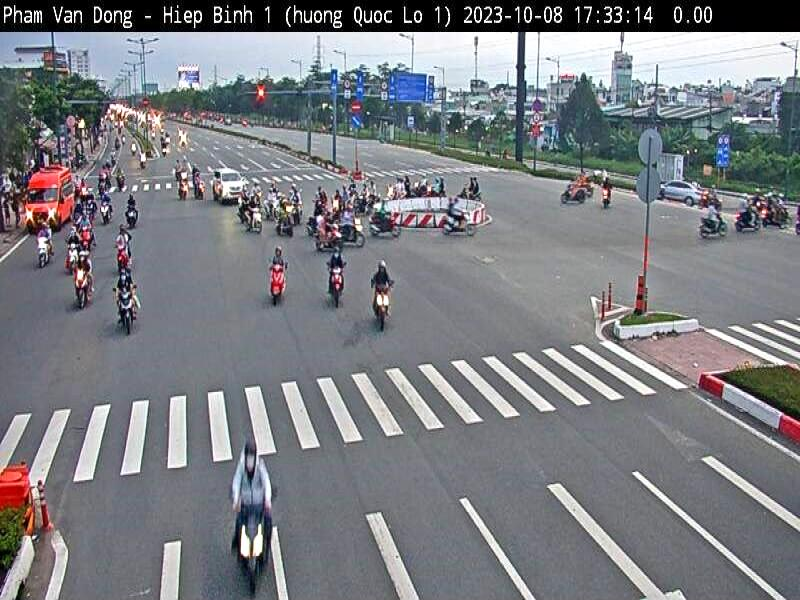car: (22, 152, 69, 241), (658, 169, 696, 218), (199, 162, 244, 203)
motorcycle: (250, 256, 302, 318), (365, 274, 400, 339), (321, 252, 348, 314)
